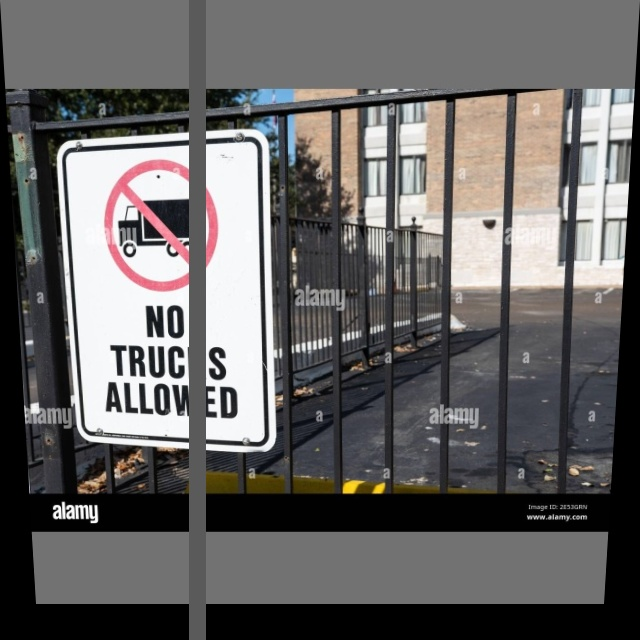Truck_Prohibited: (93, 148, 225, 302)
